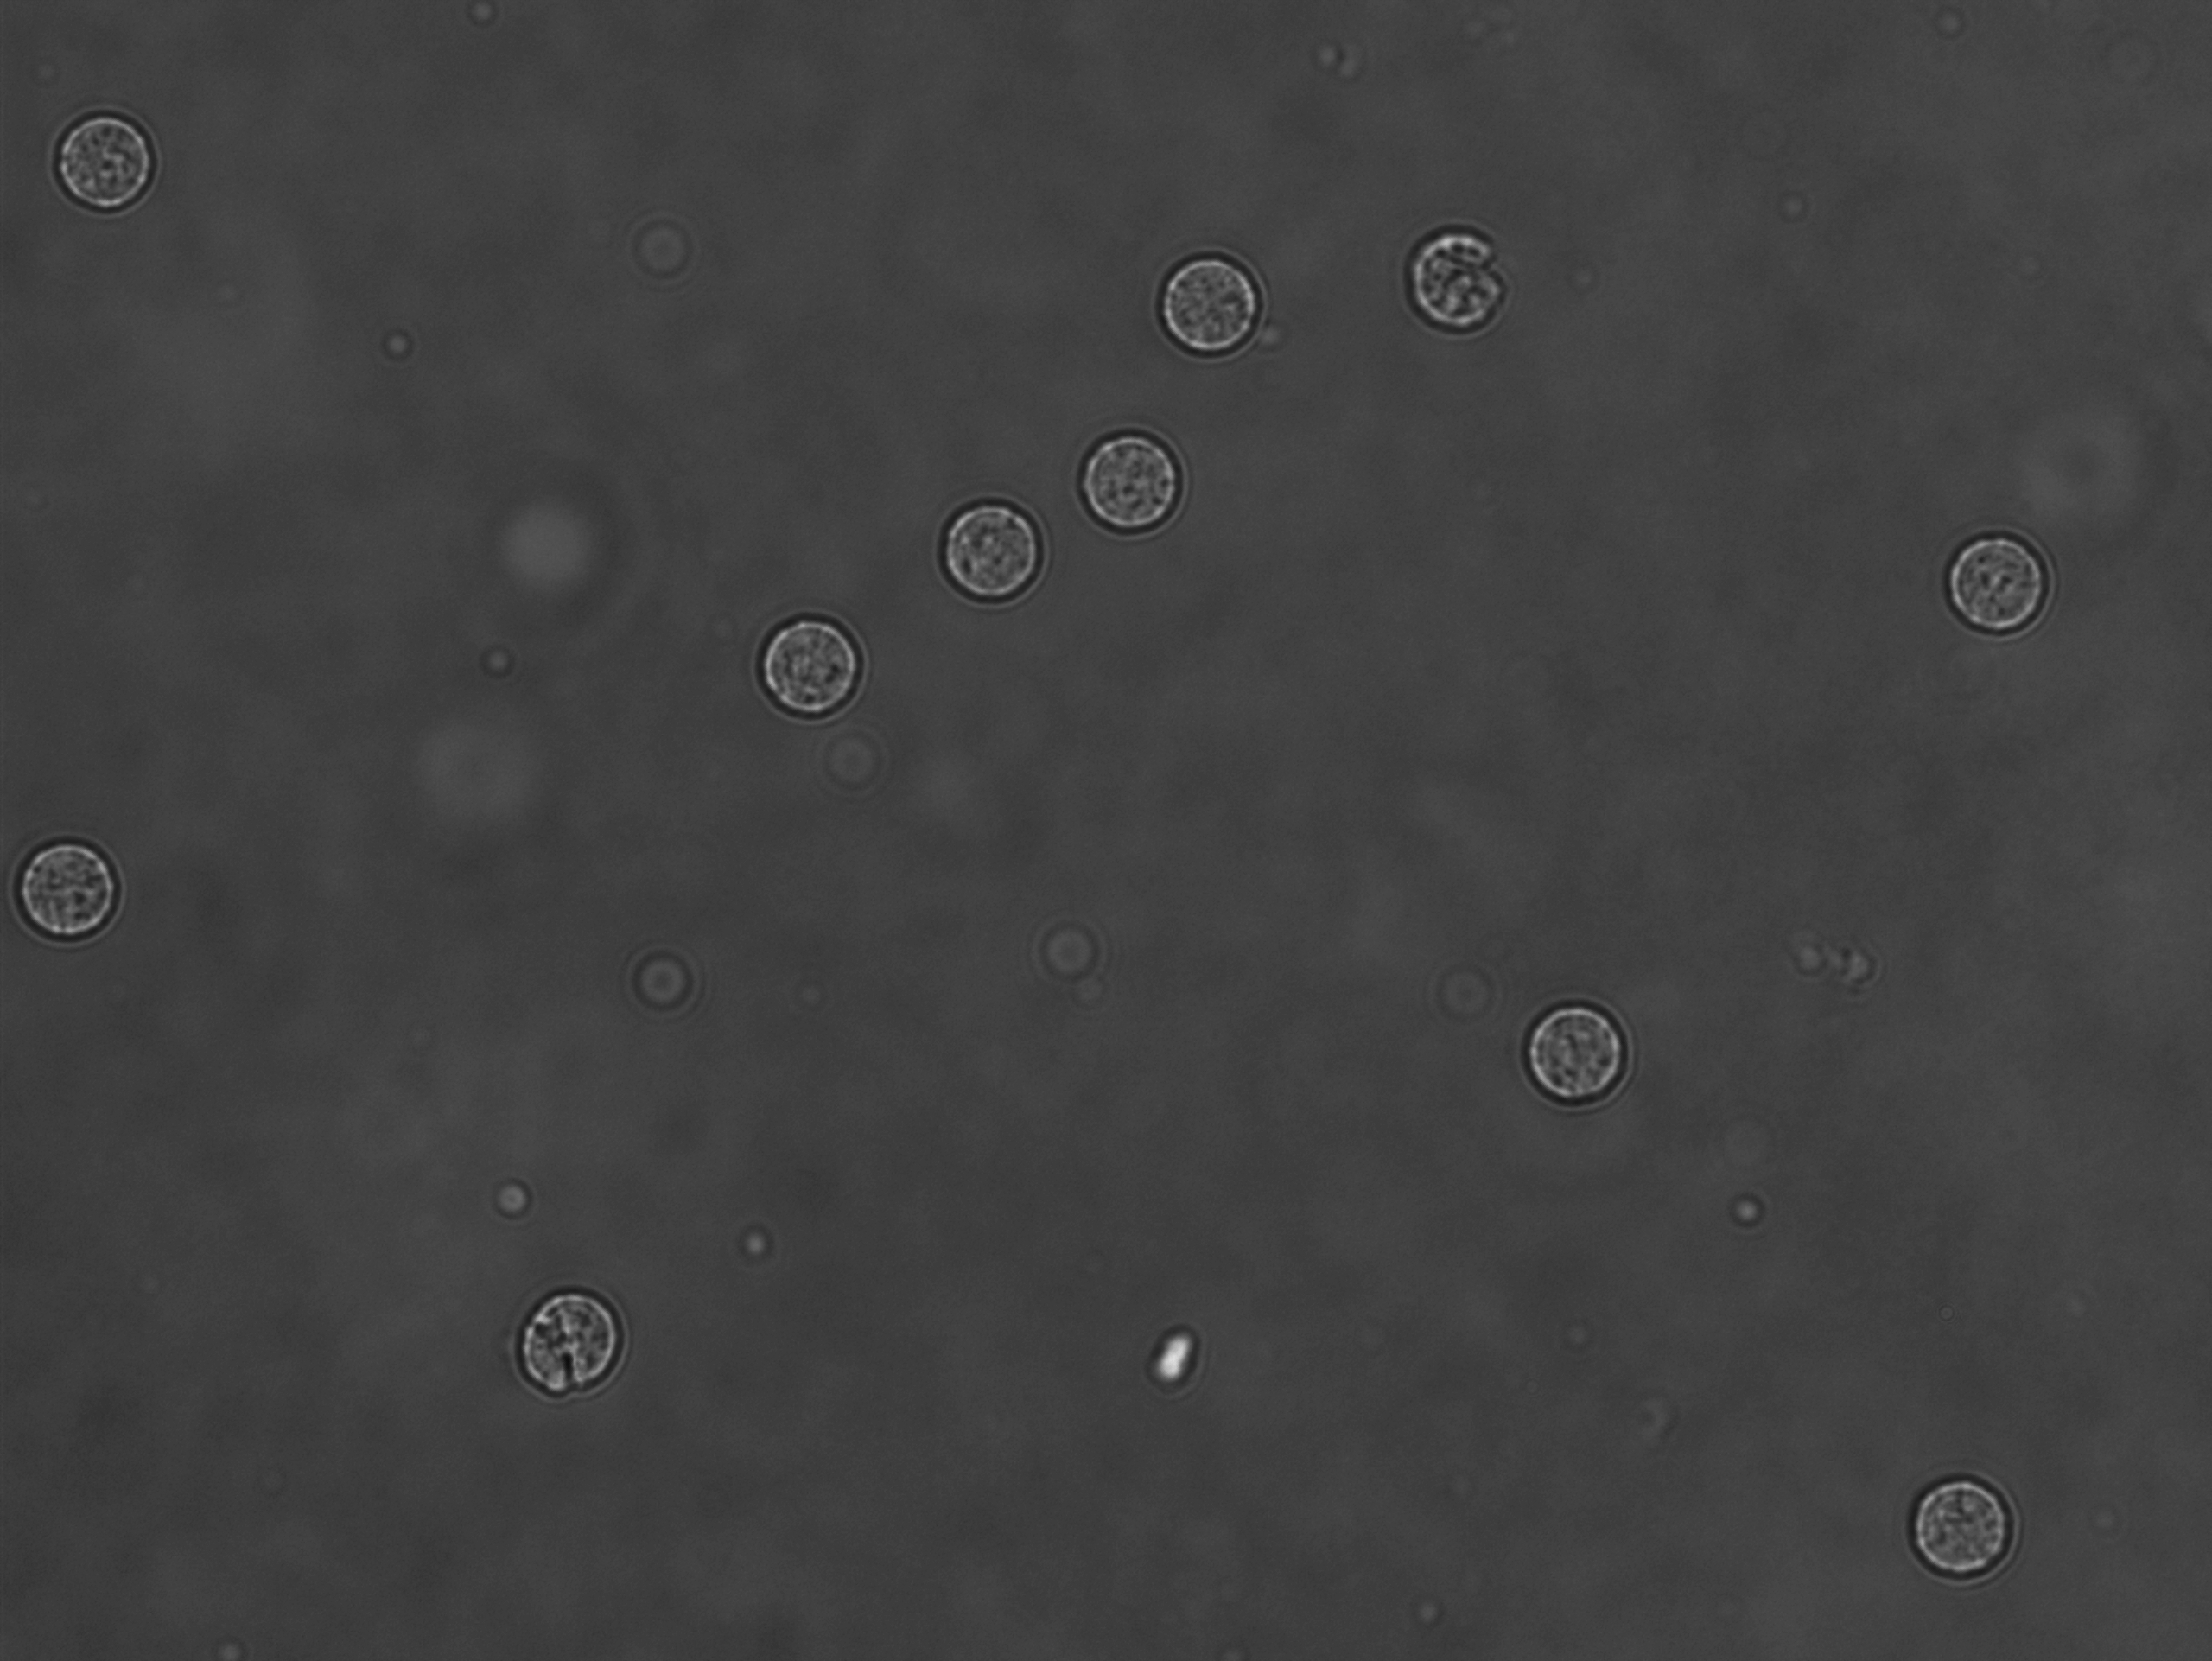depth:0: (1905, 1439, 2050, 1600), (1505, 967, 1649, 1129), (1929, 513, 2076, 646), (1062, 414, 1202, 550), (1139, 249, 1293, 370), (919, 487, 1057, 619), (14, 806, 143, 947), (750, 590, 877, 733), (1389, 216, 1516, 359), (513, 1277, 649, 1408), (40, 84, 159, 218)
